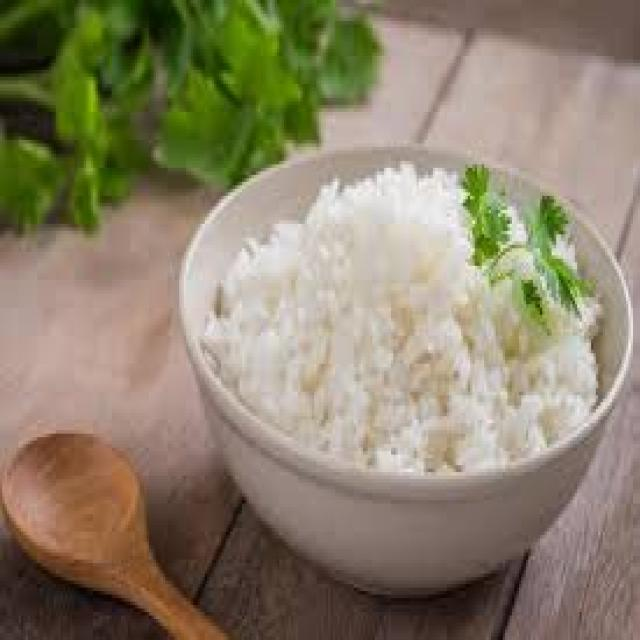nasi: (211, 159, 593, 478)
